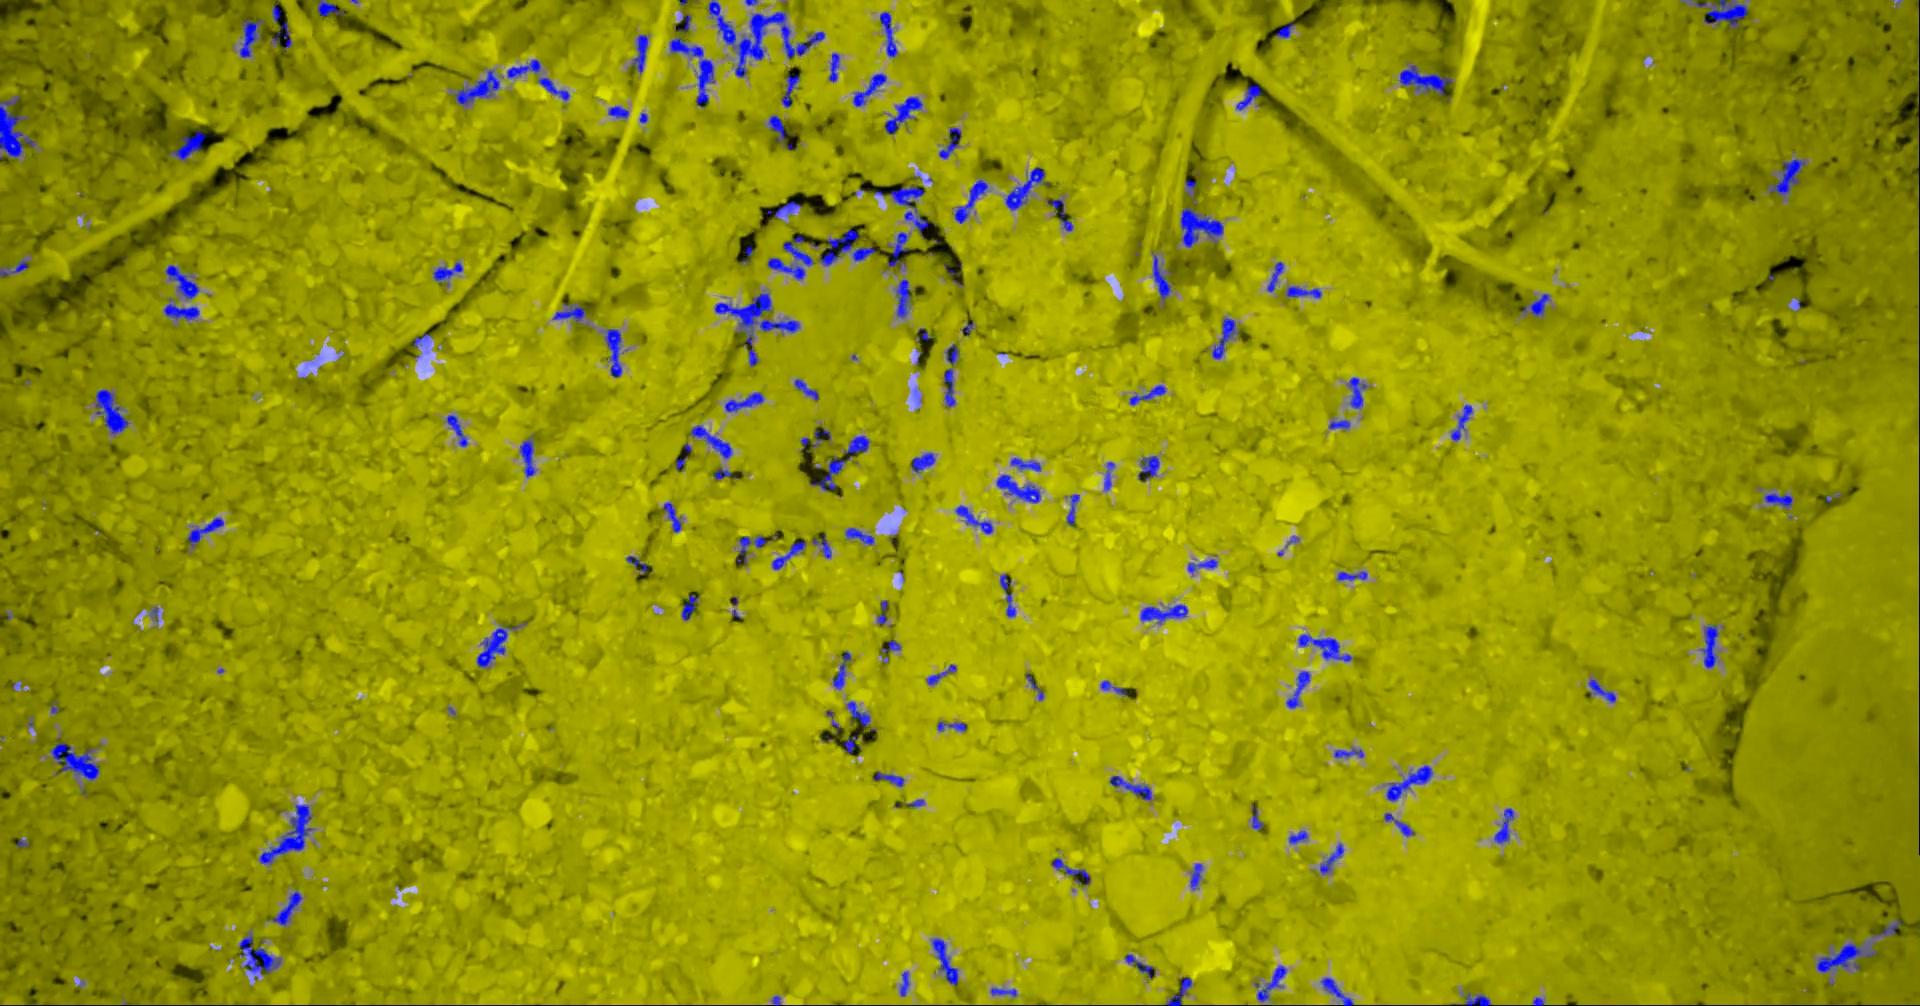ant: (670, 37, 716, 105), (260, 804, 314, 862), (822, 227, 877, 265), (1, 97, 36, 158), (770, 235, 815, 279), (52, 738, 100, 780), (1006, 166, 1051, 210), (241, 934, 282, 979), (477, 625, 521, 667), (891, 185, 930, 232), (1818, 942, 1877, 972), (1182, 207, 1225, 246), (457, 69, 502, 105), (1388, 765, 1434, 800), (1401, 65, 1453, 95), (956, 179, 989, 224), (97, 389, 130, 433), (691, 424, 733, 459), (886, 97, 924, 133), (1300, 634, 1352, 661), (998, 474, 1043, 502), (811, 456, 847, 490), (933, 937, 959, 984), (1771, 159, 1806, 193), (1705, 0, 1749, 27), (1213, 318, 1241, 358), (168, 264, 201, 298), (855, 72, 888, 105), (188, 517, 225, 546), (273, 890, 303, 925), (171, 130, 207, 159), (1258, 965, 1288, 1001), (957, 506, 994, 533), (1053, 857, 1091, 884), (1111, 775, 1153, 799), (773, 540, 808, 569), (738, 535, 773, 563), (1322, 977, 1355, 1005), (1288, 669, 1312, 708), (241, 18, 263, 57), (1142, 605, 1189, 622), (607, 328, 623, 377), (881, 11, 899, 57), (1049, 199, 1074, 231), (770, 116, 794, 149), (1154, 255, 1172, 298), (1451, 404, 1473, 439), (538, 77, 571, 100), (1703, 622, 1719, 668), (1237, 83, 1263, 111), (889, 232, 910, 267), (1385, 812, 1416, 836), (1321, 843, 1345, 874), (1001, 573, 1017, 617), (726, 392, 764, 412), (165, 298, 201, 319), (1495, 808, 1515, 843), (1167, 977, 1192, 1005), (940, 127, 963, 158), (1126, 954, 1157, 977), (1131, 385, 1167, 404), (834, 652, 852, 688), (508, 58, 542, 77), (448, 414, 469, 446), (844, 434, 871, 459), (1523, 293, 1550, 316), (632, 34, 649, 72), (897, 279, 913, 318), (521, 439, 537, 478), (768, 199, 803, 217), (1590, 680, 1617, 702), (436, 262, 463, 283), (783, 72, 801, 105), (554, 304, 587, 321), (664, 502, 683, 532), (273, 22, 293, 50), (1350, 376, 1368, 408), (928, 664, 957, 683), (850, 701, 871, 727), (1140, 455, 1161, 481), (796, 379, 820, 400), (1269, 260, 1285, 291), (945, 368, 957, 406), (1, 260, 30, 277), (1874, 920, 1903, 936), (1027, 673, 1045, 700), (913, 452, 936, 473), (813, 535, 833, 558), (875, 771, 905, 786), (677, 442, 693, 470), (847, 527, 875, 544), (627, 555, 651, 574), (319, 0, 345, 17), (1012, 457, 1043, 471), (1189, 558, 1219, 572), (883, 639, 902, 661), (1102, 680, 1129, 695), (1288, 286, 1322, 297), (1068, 494, 1081, 525), (683, 594, 698, 620), (844, 733, 863, 753), (1766, 493, 1793, 507), (1191, 862, 1204, 889), (1465, 992, 1492, 1005), (1105, 461, 1116, 489), (830, 52, 841, 81), (815, 427, 832, 445), (1253, 805, 1265, 829), (1338, 572, 1369, 580), (1335, 748, 1365, 757), (1277, 23, 1297, 37), (1290, 829, 1309, 843), (716, 467, 739, 479), (938, 721, 968, 730), (610, 105, 630, 118), (947, 344, 960, 365), (879, 600, 889, 624), (992, 987, 1018, 996), (902, 970, 910, 996), (679, 14, 692, 30), (1330, 419, 1351, 428), (1187, 178, 1197, 196), (273, 3, 282, 22)
